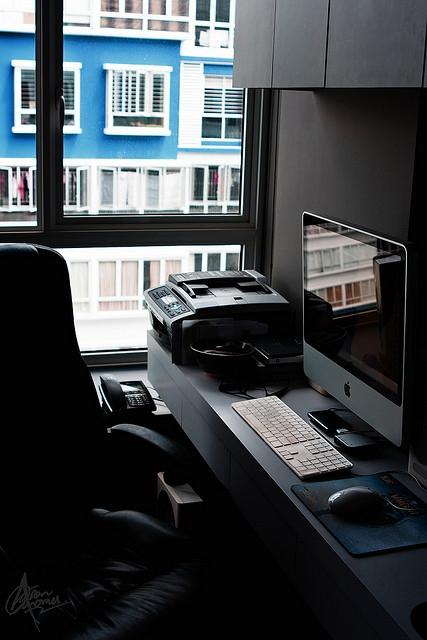apple: (344, 382, 351, 397)
